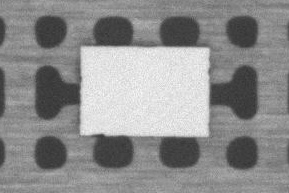DIE_BROKEN: (89, 132, 108, 138)
